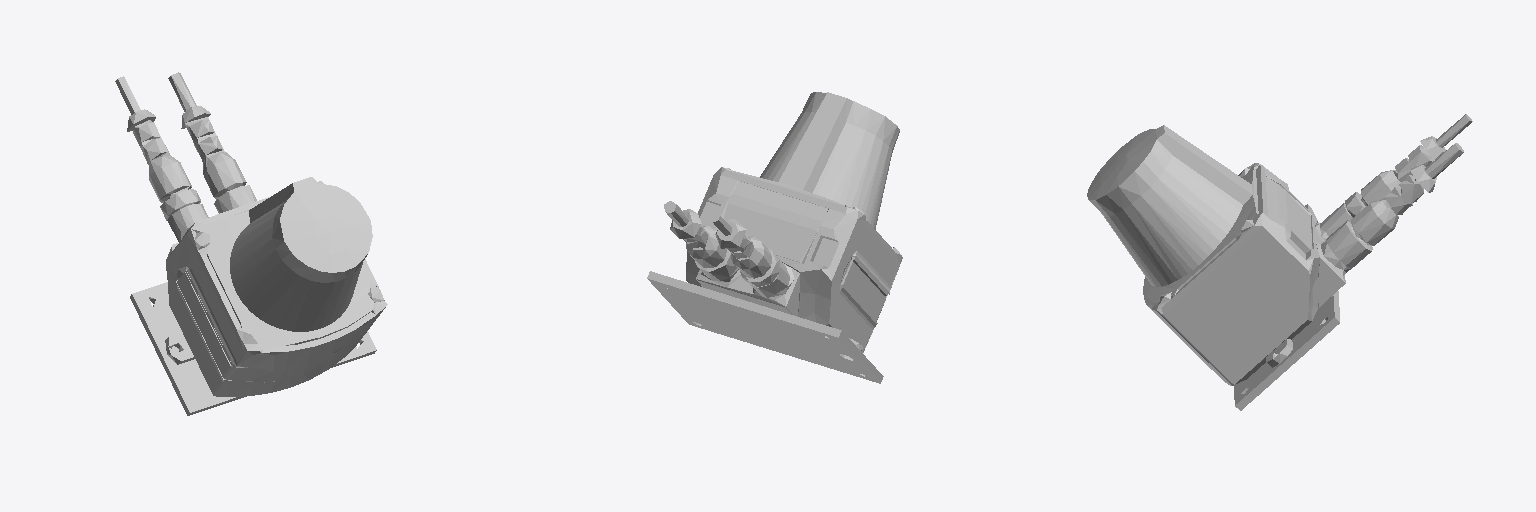
The model's file is sick_tim551.obj.
The picture shows the model from 3 angles: view 1: azimuth 30°, elevation 25°; view 2: azimuth 150°, elevation 25°; view 3: azimuth 270°, elevation 25°; orthographic projection.
Parts seen in each view (by area): view 1: sick_tim551; view 2: sick_tim551; view 3: sick_tim551.
Boxes of the visible parts, <box> form: sick_tim551: <box>115,72,387,415</box>; sick_tim551: <box>647,92,902,383</box>; sick_tim551: <box>1087,114,1472,410</box>.
Size of the model in its own units: 0.0832 by 0.0982 by 0.1408.